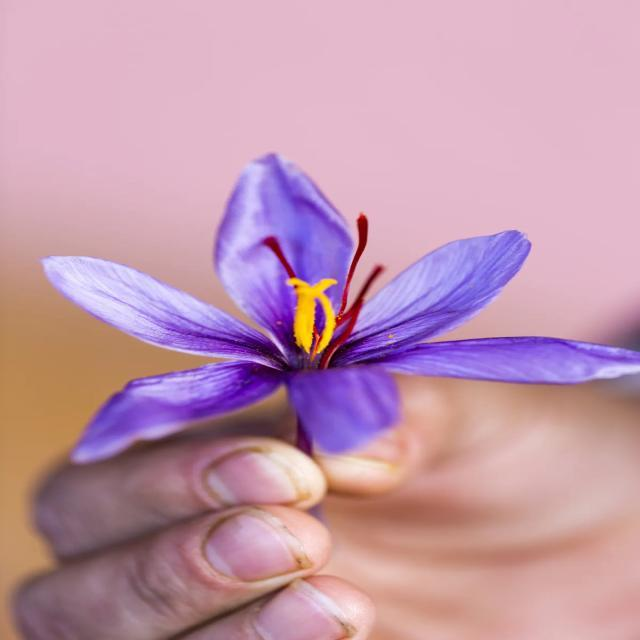Flower: (44, 151, 630, 460)
stigma: (257, 229, 327, 359), (324, 260, 390, 365), (334, 210, 374, 318)
